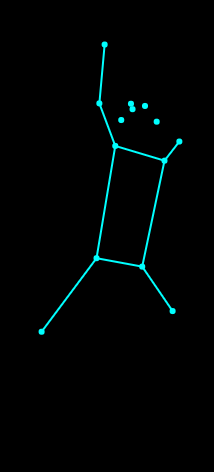warrior_1: (33, 37, 188, 341)
